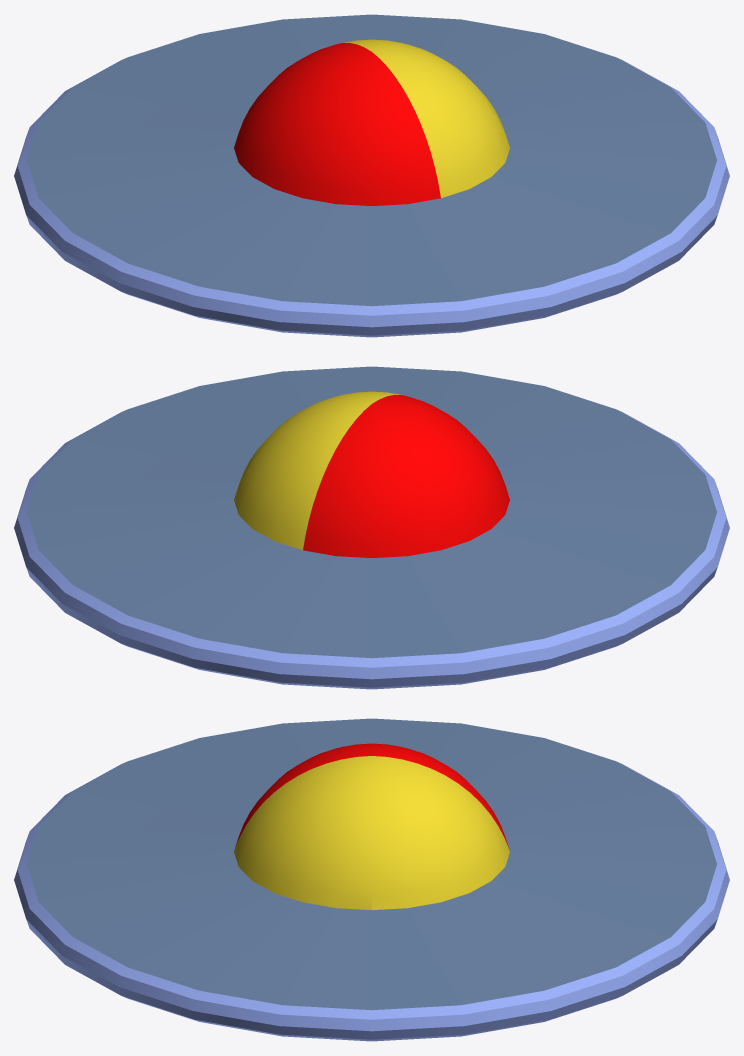
Rendered from nave.glb.
3 renders of one model, top to bottom at view 1: azimuth 30°, elevation 25°; view 2: azimuth 150°, elevation 25°; view 3: azimuth 270°, elevation 25°, orthographic.
Parts seen in each view (by area): view 1: Buffer Layer (×4); view 2: Buffer Layer (×4); view 3: Buffer Layer (×4).
Boxes of the visible parts, left/top/right/bottom form: Buffer Layer (×4): left=14, top=14, right=729, bottom=337; Buffer Layer (×4): left=14, top=366, right=729, bottom=689; Buffer Layer (×4): left=14, top=718, right=729, bottom=1041.
Bounding box in the file's own units: 0.3927 × 0.1054 × 0.3927.
